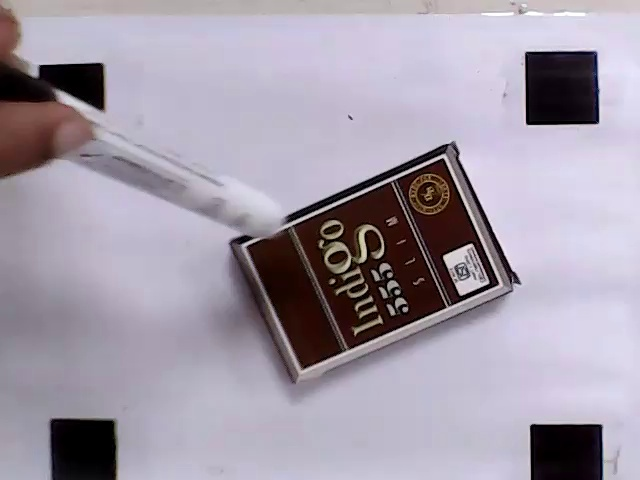BEX: (243, 156, 501, 371)
